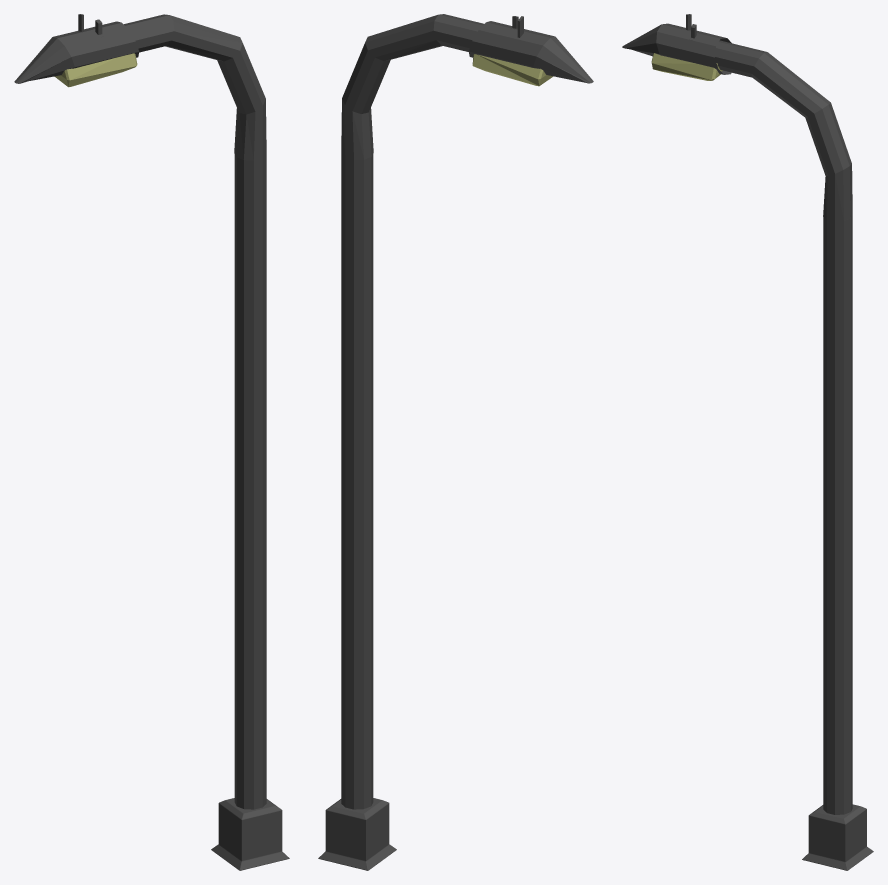
Rendered from Lights 1.fbx.
The picture shows the model from 3 angles, left to right: view 1: azimuth 30°, elevation 25°; view 2: azimuth 150°, elevation 25°; view 3: azimuth 330°, elevation 25°; orthographic projection. The views are drawn at different scales.
Visible parts, largest first — view 1: pasted__pCube113; view 2: pasted__pCube113; view 3: pasted__pCube113.
Part boxes in pixels (x1,y1,x2,y2): pasted__pCube113: (14,14,289,870); pasted__pCube113: (318,14,593,870); pasted__pCube113: (622,14,873,870).
Bounding box in the file's own units: 11.04 × 35.61 × 2.12.
